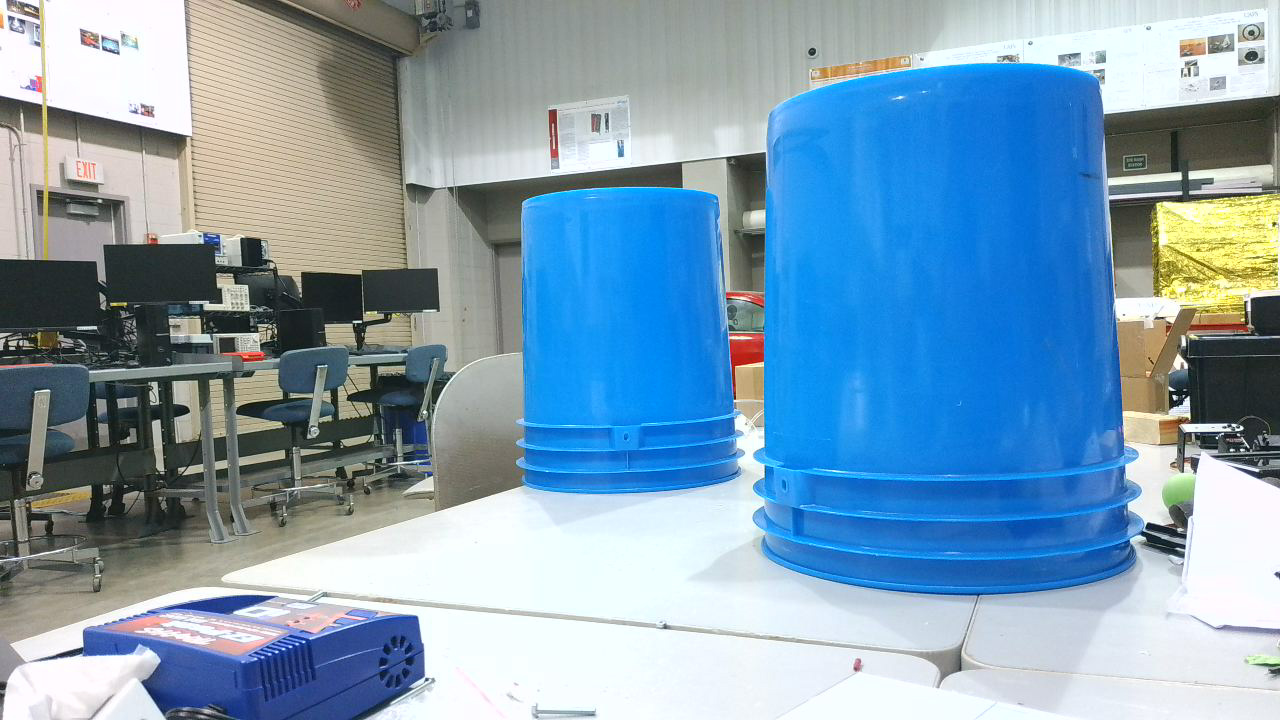blue_bucket: (754, 65, 1153, 603), (516, 187, 752, 502)
